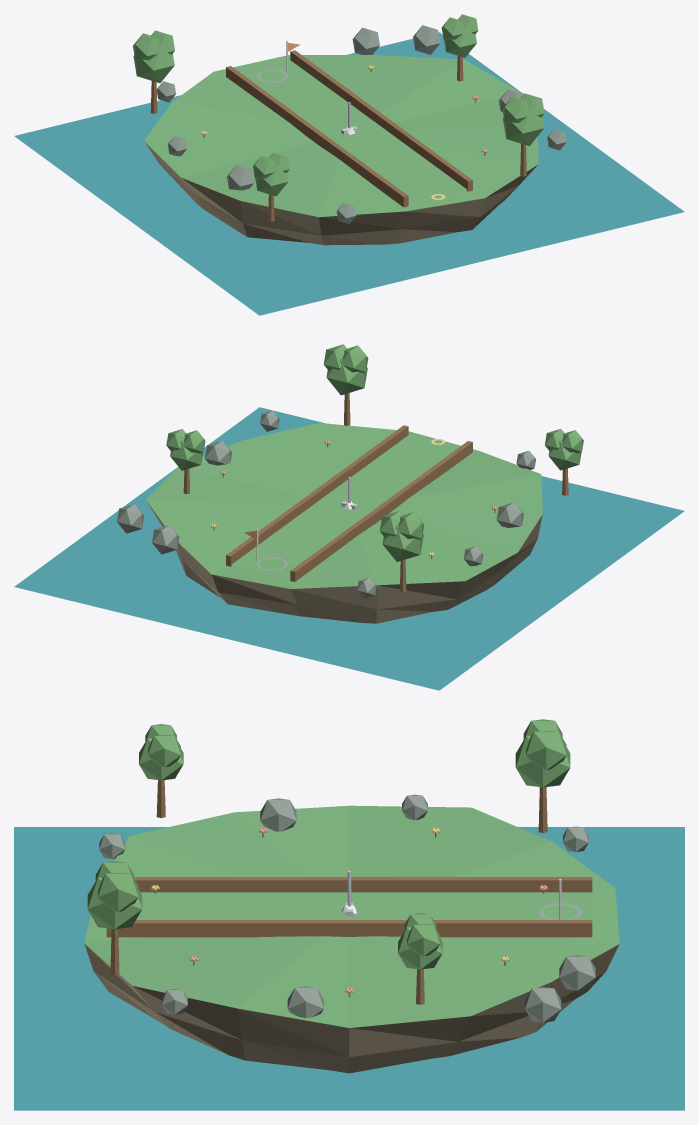
Rendered from course-01.glb.
3 renders of one model, top to bottom at view 1: azimuth 30°, elevation 25°; view 2: azimuth 150°, elevation 25°; view 3: azimuth 270°, elevation 25°, orthographic. The views are drawn at different scales.
Parts seen in each view (by area): view 1: water-plane, island-turf-edge, island-rock-plinth, surface-grass, rail-left, rail-right, faceted-canopy.003, faceted-canopy.009, faceted-rock.004, faceted-canopy.006, faceted-canopy, faceted-rock.007 (+3 smaller); view 2: water-plane, island-turf-edge, island-rock-plinth, surface-grass, rail-left, rail-right, faceted-canopy.003, faceted-canopy.009, faceted-rock.004, faceted-rock.007, faceted-canopy.010, faceted-rock (+4 smaller); view 3: water-plane, island-turf-edge, island-rock-plinth, surface-grass, rail-right, rail-left, faceted-canopy.009, faceted-canopy.003, faceted-canopy.011, faceted-canopy.005, faceted-rock.007, faceted-rock.004 (+6 smaller).
Part boxes in pixels (x1=…): water-plane: x1=14, y1=32, x2=684, y2=315; island-turf-edge: x1=144, y1=55, x2=538, y2=217; island-rock-plinth: x1=144, y1=141, x2=537, y2=245; surface-grass: x1=240, y1=60, x2=467, y2=204; rail-left: x1=226, y1=66, x2=408, y2=207; rail-right: x1=290, y1=50, x2=472, y2=191; faceted-canopy.003: x1=133, y1=46, x2=174, y2=83; faceted-canopy.009: x1=503, y1=109, x2=543, y2=145; faceted-rock.004: x1=413, y1=25, x2=440, y2=54; faceted-canopy.006: x1=444, y1=27, x2=476, y2=57; faceted-canopy: x1=255, y1=165, x2=288, y2=196; faceted-rock.007: x1=352, y1=27, x2=379, y2=54; water-plane: x1=14, y1=407, x2=684, y2=690; island-turf-edge: x1=146, y1=423, x2=542, y2=588; island-rock-plinth: x1=147, y1=502, x2=542, y2=623; surface-grass: x1=231, y1=435, x2=458, y2=579; rail-left: x1=290, y1=441, x2=472, y2=581; rail-right: x1=226, y1=425, x2=408, y2=566; faceted-canopy.003: x1=382, y1=525, x2=423, y2=561; faceted-canopy.009: x1=326, y1=358, x2=367, y2=395; faceted-rock.004: x1=117, y1=504, x2=144, y2=533; faceted-rock.007: x1=152, y1=524, x2=179, y2=554; faceted-canopy.010: x1=342, y1=345, x2=368, y2=372; faceted-rock: x1=496, y1=502, x2=523, y2=527; water-plane: x1=14, y1=827, x2=684, y2=1110; island-turf-edge: x1=84, y1=805, x2=619, y2=1027; island-rock-plinth: x1=84, y1=944, x2=619, y2=1073; surface-grass: x1=136, y1=892, x2=592, y2=919; rail-right: x1=106, y1=920, x2=592, y2=937; rail-left: x1=134, y1=877, x2=592, y2=892; faceted-canopy.009: x1=87, y1=877, x2=142, y2=929; faceted-canopy.003: x1=515, y1=735, x2=570, y2=787; faceted-canopy.011: x1=98, y1=872, x2=138, y2=911; faceted-canopy.005: x1=526, y1=731, x2=566, y2=769; faceted-rock.007: x1=559, y1=955, x2=595, y2=990; faceted-rock.004: x1=525, y1=987, x2=561, y2=1022.
Size of the model in its own units: 12.3 by 3.35 by 12.3.
